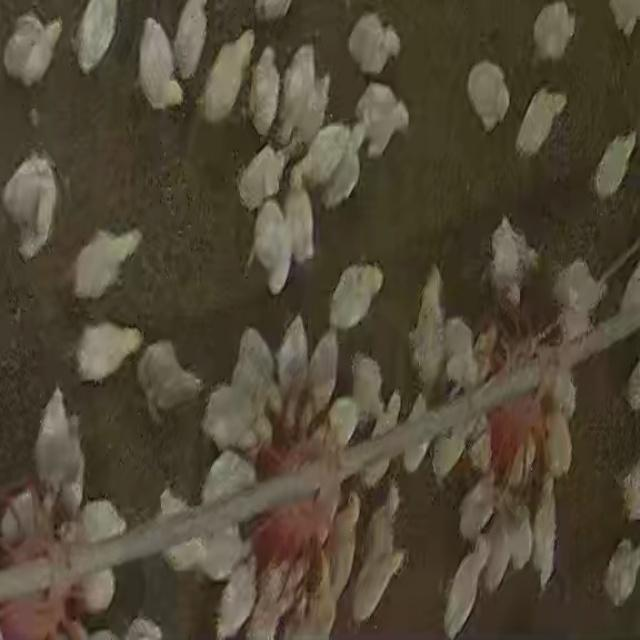chicken: (71, 219, 147, 306), (2, 152, 60, 259), (134, 338, 203, 426), (34, 387, 84, 498), (300, 120, 362, 207), (244, 198, 296, 298), (276, 44, 326, 148), (486, 215, 535, 321), (199, 30, 254, 123), (548, 258, 606, 344), (71, 316, 141, 387), (408, 261, 446, 389), (2, 11, 62, 89), (137, 17, 185, 113), (442, 543, 490, 635), (352, 82, 408, 160), (326, 260, 386, 332), (274, 309, 308, 436), (231, 327, 276, 412), (513, 86, 566, 158), (236, 140, 287, 214), (200, 450, 256, 514), (346, 11, 400, 76), (465, 59, 513, 132), (591, 128, 638, 202), (74, 0, 121, 74), (248, 45, 282, 139), (283, 178, 317, 271), (173, 1, 211, 78), (305, 326, 339, 410), (530, 484, 558, 584), (531, 1, 575, 64), (349, 351, 386, 425), (456, 475, 496, 543)
